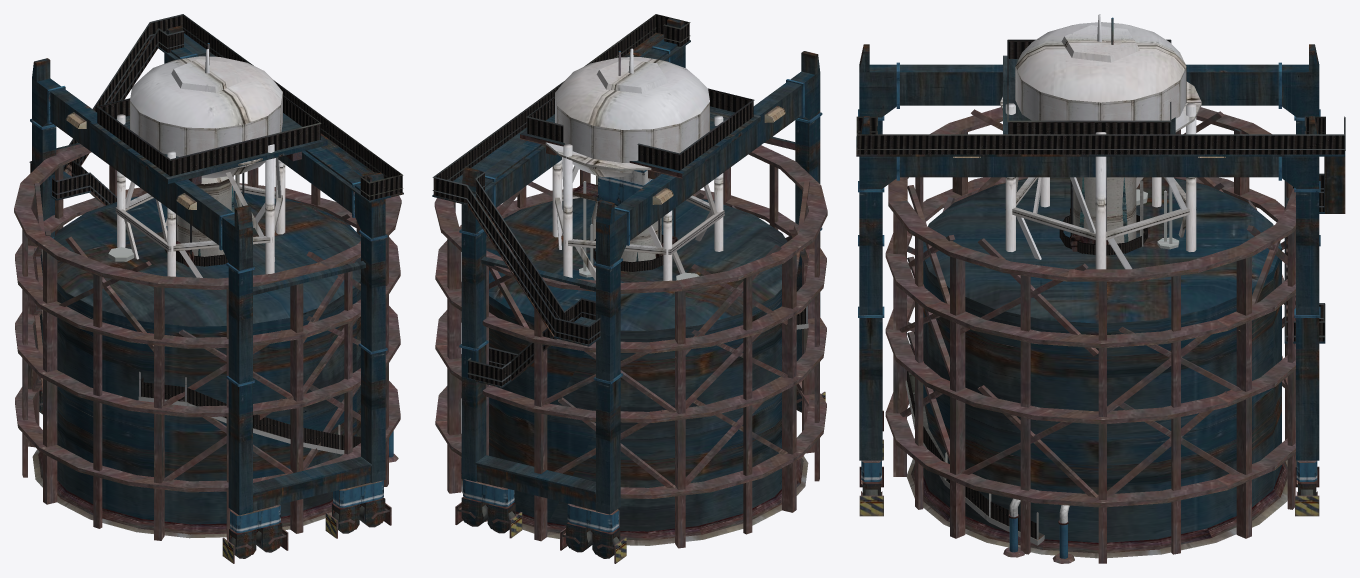
File: port_towers.glb
The picture shows the model from 3 angles, left to right: view 1: azimuth 30°, elevation 25°; view 2: azimuth 150°, elevation 25°; view 3: azimuth 270°, elevation 25°; orthographic projection. The views are drawn at different scales.
Visible parts, largest first — view 1: tower_tank_2, tower_crane, tower_water, tower_tank_1, tower_tank_4; view 2: tower_tank_2, tower_crane, tower_water, tower_tank_1, tower_tank_4; view 3: tower_tank_2, tower_crane, tower_water, tower_tank_1, tower_tank_4.
Part boxes in pixels (x1,y1,x2,y2): tower_tank_2: (14, 147, 401, 540); tower_crane: (29, 14, 403, 563); tower_water: (115, 49, 285, 277); tower_tank_1: (32, 371, 360, 538); tower_tank_4: (164, 174, 241, 266); tower_tank_2: (434, 145, 827, 548); tower_crane: (432, 14, 825, 563); tower_water: (545, 48, 724, 280); tower_tank_1: (461, 203, 808, 545); tower_tank_4: (591, 175, 663, 271); tower_tank_2: (885, 107, 1296, 563); tower_crane: (856, 39, 1345, 516); tower_water: (1000, 14, 1201, 269); tower_tank_1: (905, 180, 1287, 558); tower_tank_4: (1059, 177, 1147, 255).
Size of the model in its own units: 2.2 by 2.6 by 2.5.
5 materials, 5 textured.
